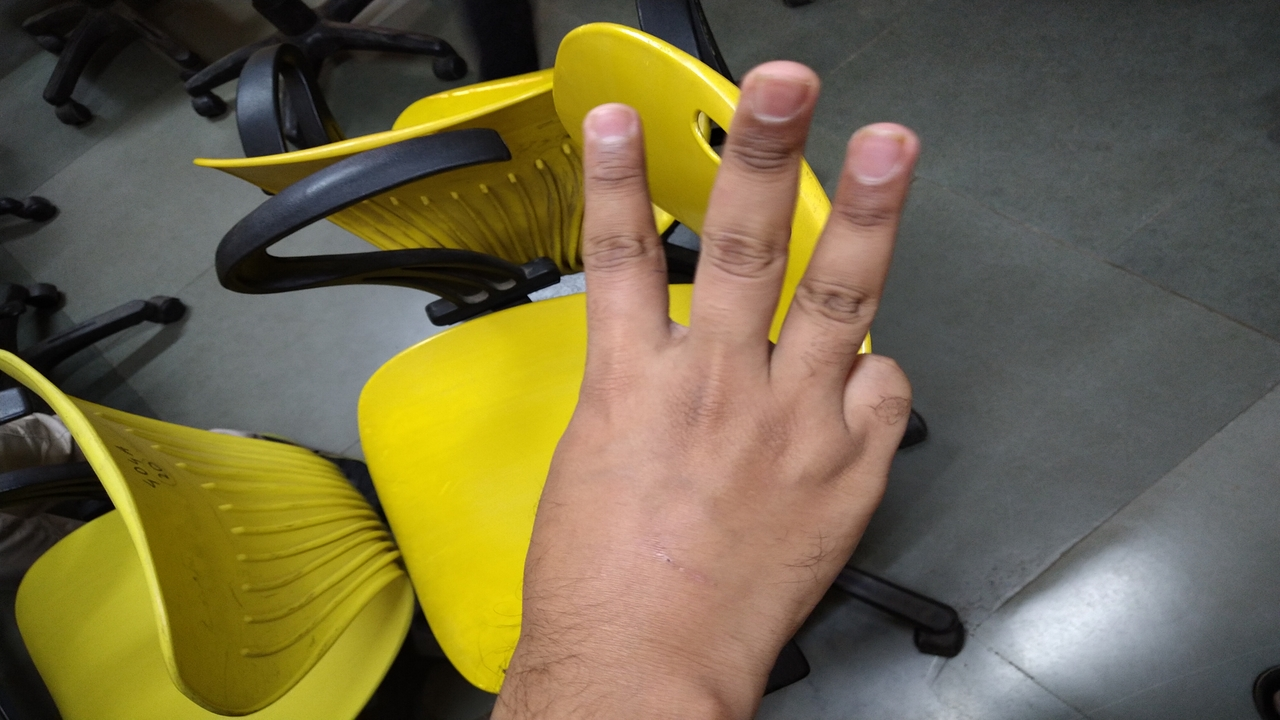fingertip: (740, 52, 822, 132), (844, 116, 928, 184), (580, 94, 642, 166)
